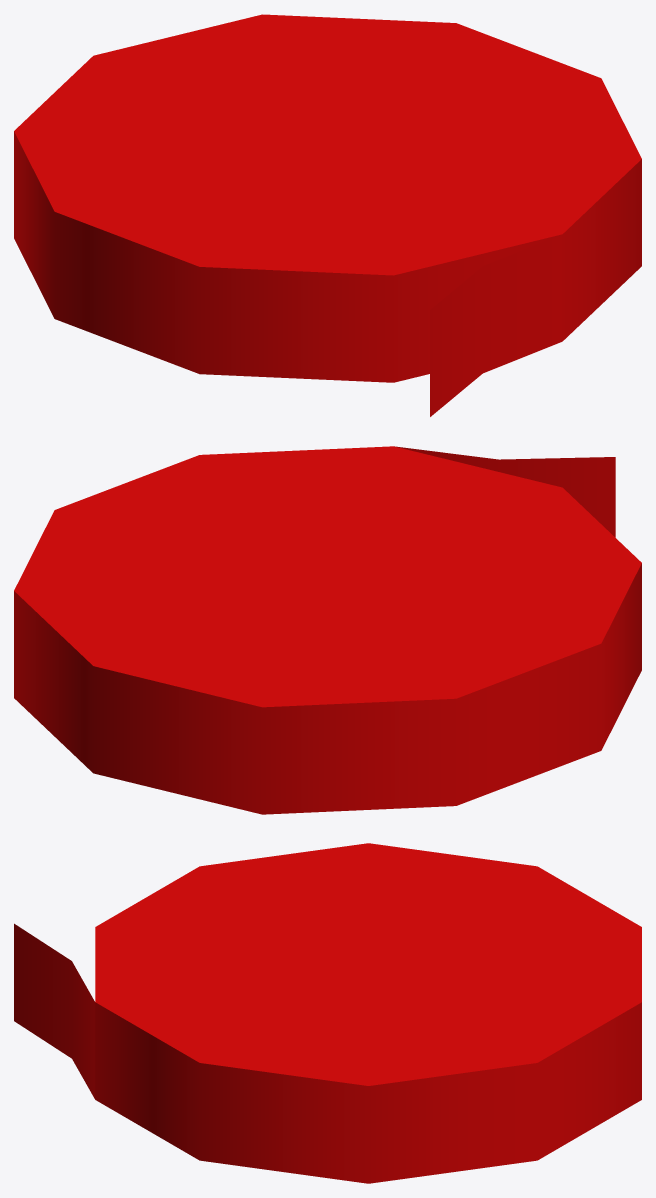
The model's file is ticket_roll.fbx.
The picture shows the model from 3 angles, top to bottom: view 1: azimuth 30°, elevation 25°; view 2: azimuth 150°, elevation 25°; view 3: azimuth 270°, elevation 25°; orthographic projection. The views are drawn at different scales.
Visible parts, largest first — view 1: ticket_roll; view 2: ticket_roll; view 3: ticket_roll.
Boxes of the visible parts, x1,y1,x2,y2 form: ticket_roll: (14, 14, 641, 416); ticket_roll: (14, 446, 641, 814); ticket_roll: (14, 843, 641, 1183).
Size of the model in its own units: 80 by 15 by 87.39.
